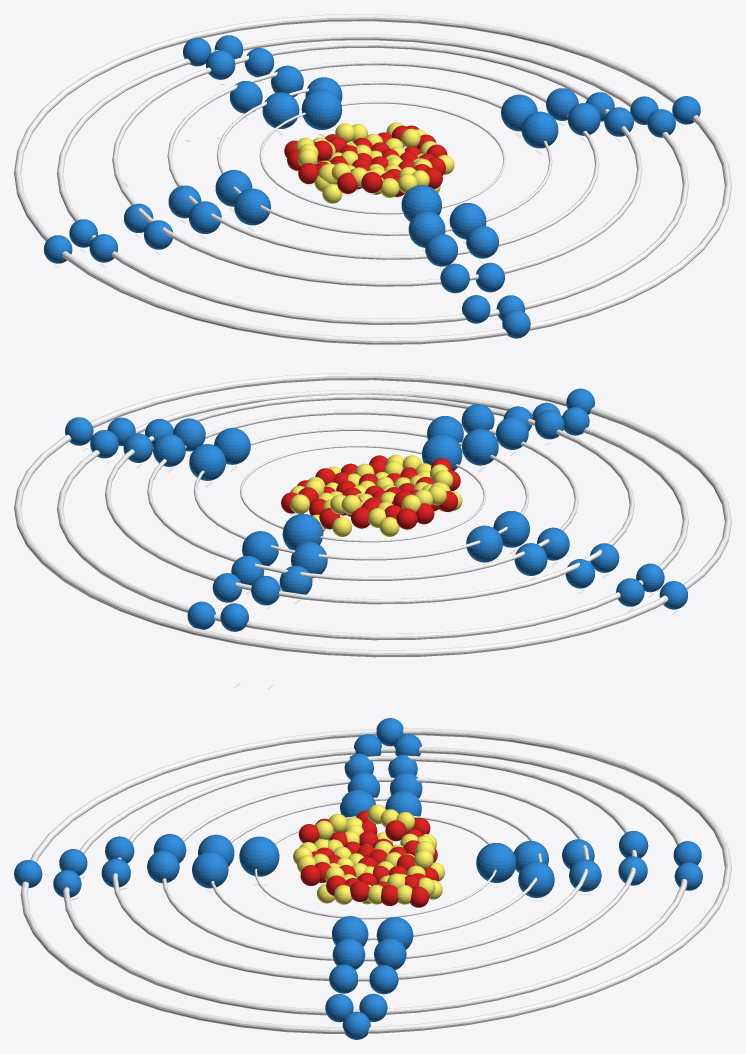
The picture shows the model from 3 angles, top to bottom: view 1: azimuth 30°, elevation 25°; view 2: azimuth 150°, elevation 25°; view 3: azimuth 270°, elevation 25°; orthographic projection.
Visible parts, largest first — view 1: Torus.006, Torus.005, Torus.004, Torus.003, Torus.002, Torus.001, g, g.005, g.003, g.001, g.008, g.007 (+27 smaller); view 2: Torus.006, Torus.005, Torus.004, Torus.003, Torus.002, Torus.001, g, g.006, g.004, g.002, g.001, g.005 (+27 smaller); view 3: Torus.006, Torus.005, Torus.004, Torus.003, Torus.002, g.001, g, Torus.001, g.007, g.009, g.015, g.005 (+27 smaller).
Boxes of the visible parts, bbox=[...] form: Torus.006: bbox=[14, 14, 731, 344]; Torus.005: bbox=[57, 34, 688, 324]; Torus.004: bbox=[112, 42, 642, 286]; Torus.003: bbox=[167, 61, 599, 259]; Torus.002: bbox=[217, 81, 552, 235]; Torus.001: bbox=[259, 101, 505, 214]; g: bbox=[301, 89, 342, 129]; g.005: bbox=[521, 111, 558, 148]; g.003: bbox=[234, 188, 270, 225]; g.001: bbox=[401, 185, 441, 221]; g.008: bbox=[262, 92, 299, 128]; g.007: bbox=[449, 203, 486, 239]; Torus.006: bbox=[14, 373, 731, 657]; Torus.005: bbox=[57, 390, 688, 640]; Torus.004: bbox=[105, 394, 634, 604]; Torus.003: bbox=[147, 410, 578, 580]; Torus.002: bbox=[193, 427, 529, 560]; Torus.001: bbox=[240, 445, 485, 542]; g: bbox=[282, 513, 323, 549]; g.006: bbox=[462, 428, 498, 465]; g.004: bbox=[189, 444, 225, 480]; g.002: bbox=[466, 525, 502, 562]; g.001: bbox=[422, 434, 462, 470]; g.005: bbox=[214, 428, 250, 464]; Torus.006: bbox=[20, 728, 731, 1033]; Torus.005: bbox=[63, 746, 687, 1015]; Torus.004: bbox=[112, 755, 637, 981]; Torus.003: bbox=[162, 777, 589, 961]; Torus.002: bbox=[211, 797, 542, 940]; g.001: bbox=[239, 836, 279, 876]; g: bbox=[476, 843, 516, 882]; Torus.001: bbox=[254, 815, 496, 919]; g.007: bbox=[192, 852, 228, 888]; g.009: bbox=[518, 861, 554, 897]; g.015: bbox=[147, 850, 179, 883]; g.005: bbox=[332, 916, 368, 946].
Size of the model in its own units: 17.93 by 2.92 by 17.68.
